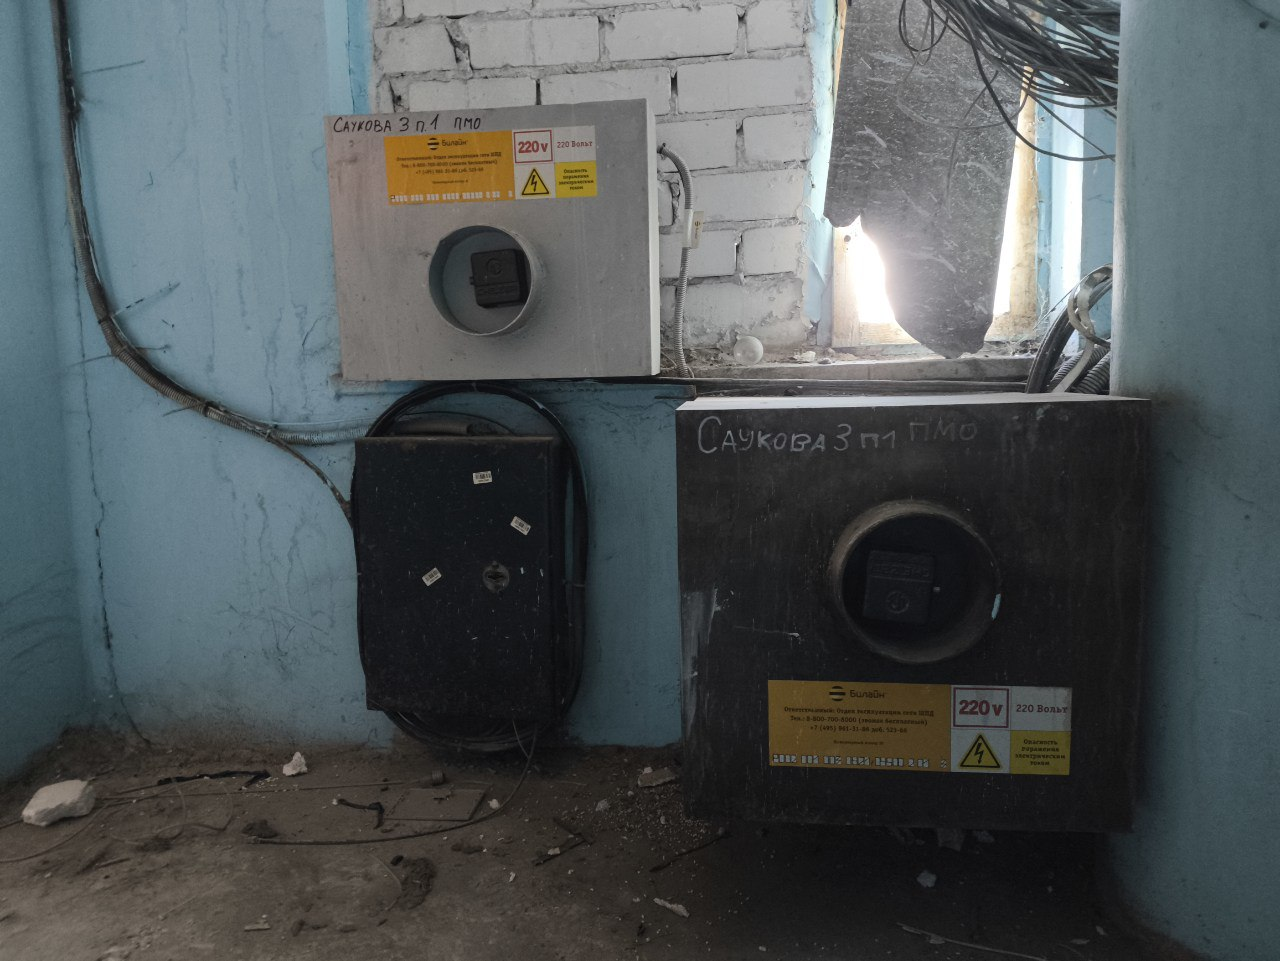shta-3: (322, 95, 665, 383)
shta-9: (664, 387, 1166, 835)
